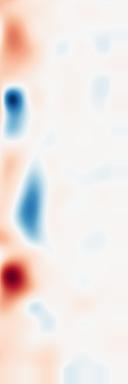filament: (0, 252, 36, 309)
